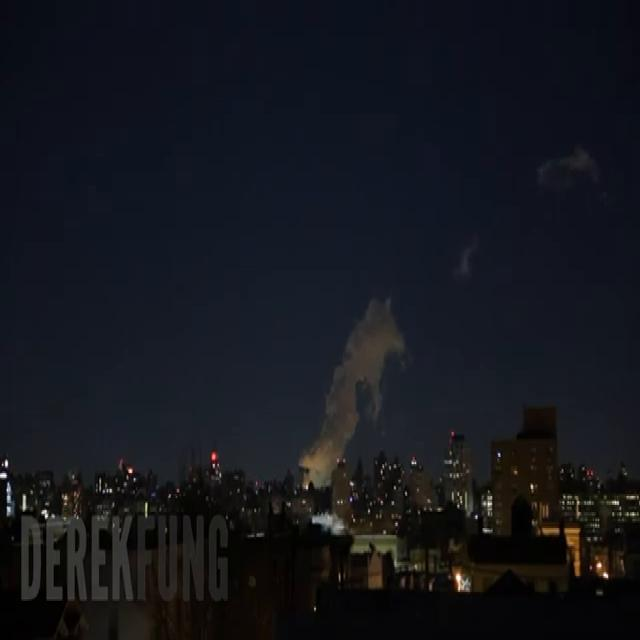smoke: (299, 299, 405, 473)
